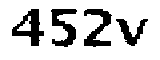2: (82, 7, 114, 52)
4: (9, 6, 47, 51)
5: (49, 6, 79, 51)
v: (115, 16, 149, 52)
